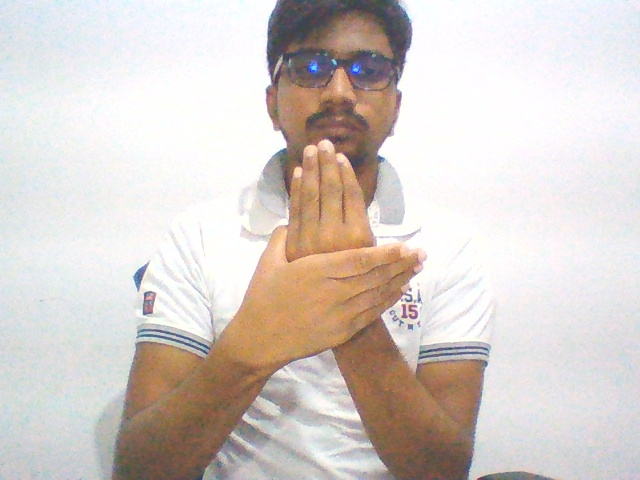tree: (214, 129, 432, 382)
